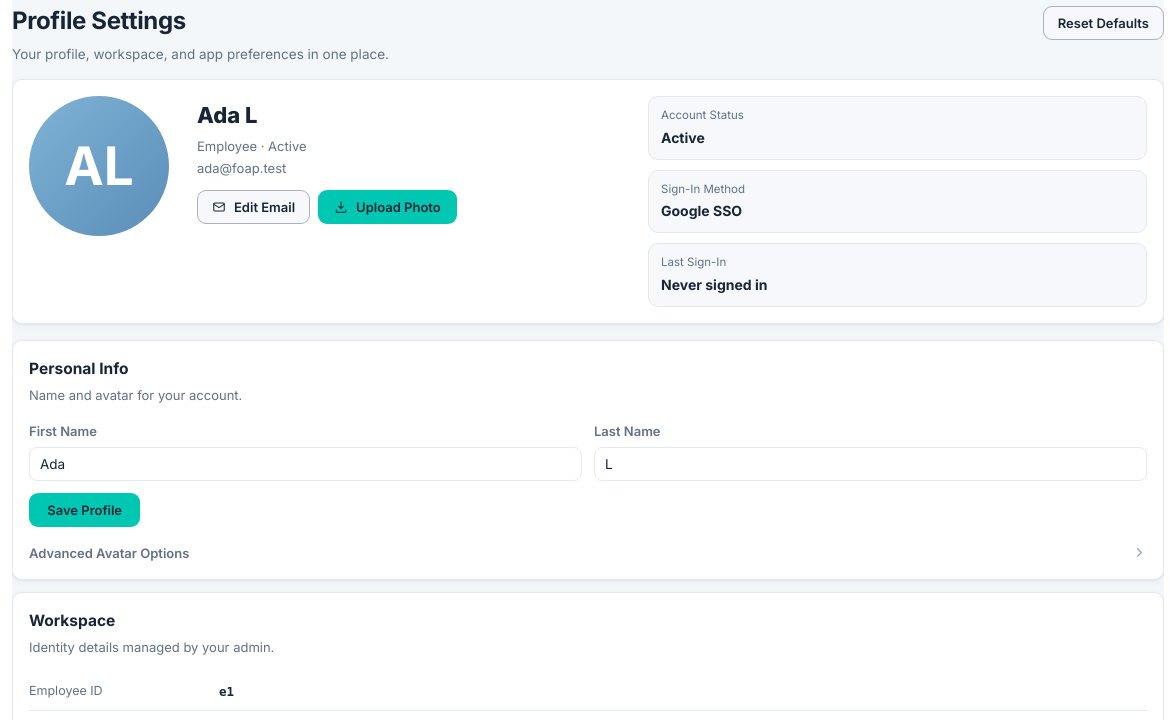
Test case: SettingsPage › keeps a failed profile save visible after the button stops
Click the button "Save Profile".
click(85, 510)  # box left=29, top=493, right=140, bottom=527
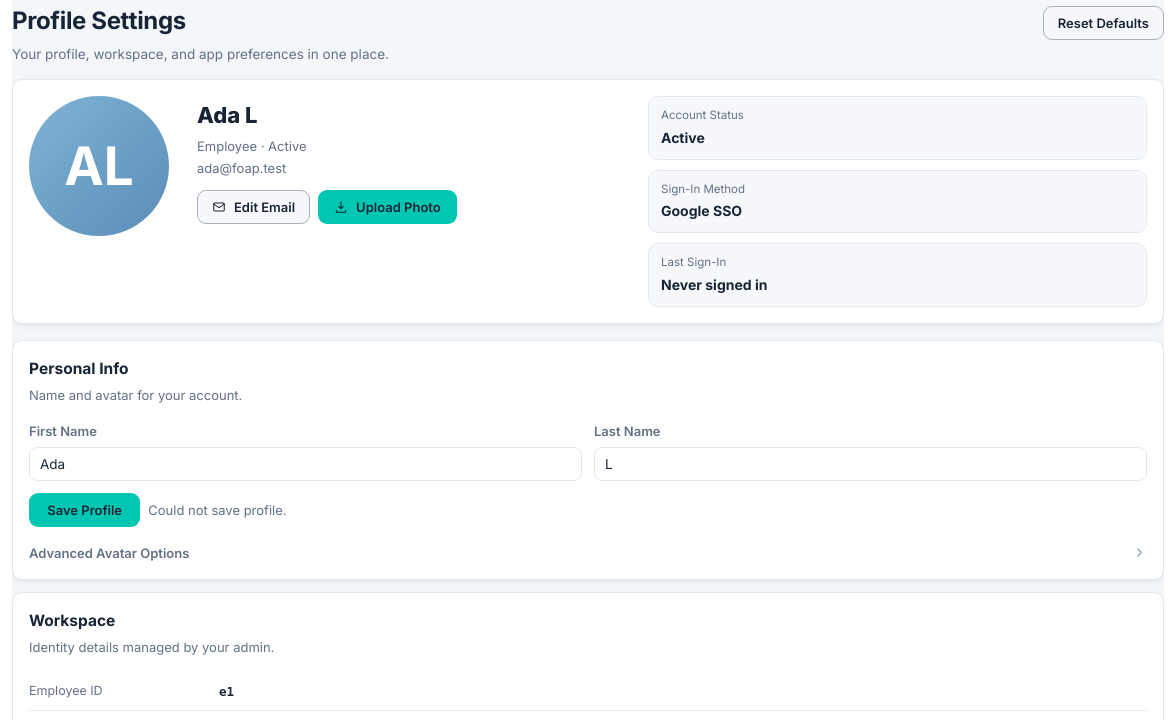
Check: the text "Could not save profile." is shown, box left=148, top=500, right=287, bottom=520
